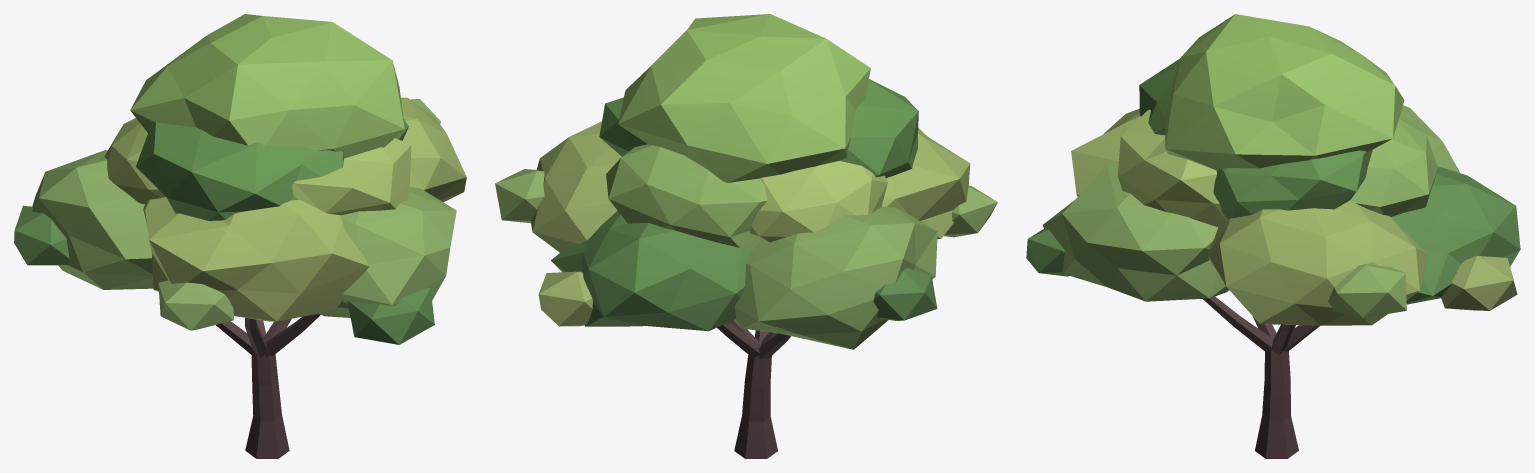
The model's file is maple_green.glb.
The picture shows the model from 3 angles, left to right: view 1: azimuth 30°, elevation 25°; view 2: azimuth 150°, elevation 25°; view 3: azimuth 270°, elevation 25°; orthographic projection.
Visible parts, largest first — view 1: maple_green; view 2: maple_green; view 3: maple_green.
Part boxes in pixels (x1,y1,x2,y2): maple_green: (14,14,466,458); maple_green: (495,14,997,458); maple_green: (1026,14,1520,458).
Size of the model in its own units: 5.81 by 5.5 by 5.94.
